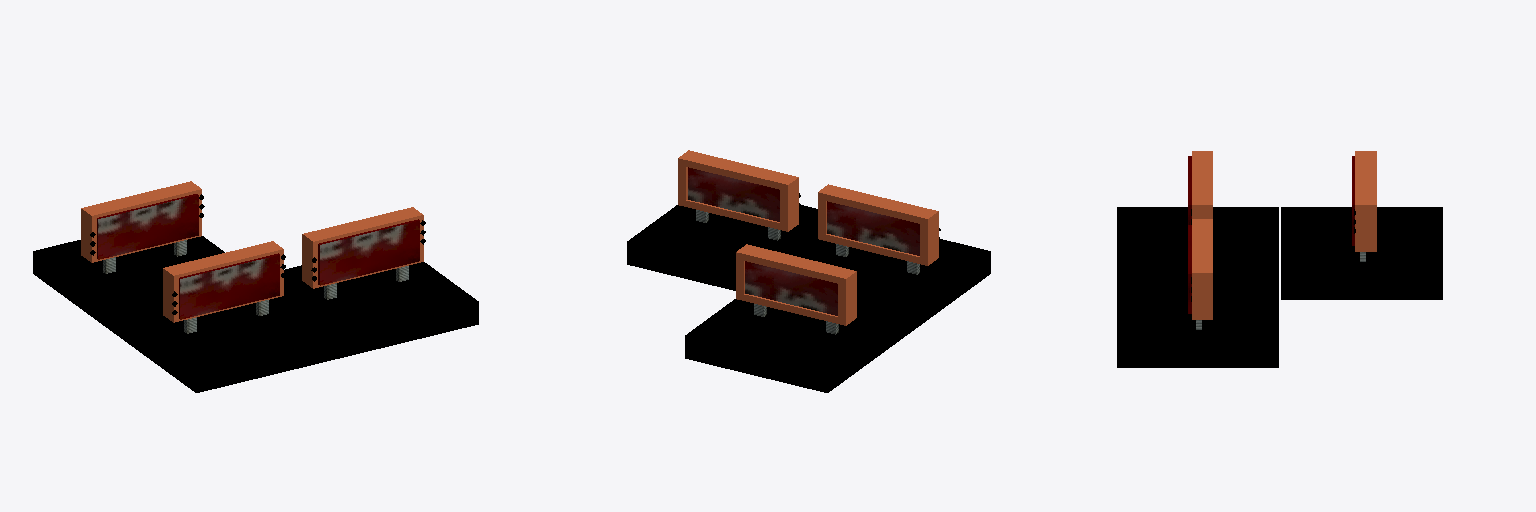
3 renders of one model, left to right at view 1: azimuth 30°, elevation 25°; view 2: azimuth 150°, elevation 25°; view 3: azimuth 270°, elevation 25°, orthographic.
Visible parts, largest first — view 1: 0001_1111; view 2: 0001_1111; view 3: 0001_1111.
Boxes of the visible parts, <box> form: 0001_1111: <box>33,181,478,392</box>; 0001_1111: <box>627,150,990,392</box>; 0001_1111: <box>1117,151,1442,367</box>.
Size of the model in its own units: 1.06 by 0.3091 by 1.06.
5 materials, 2 textured.